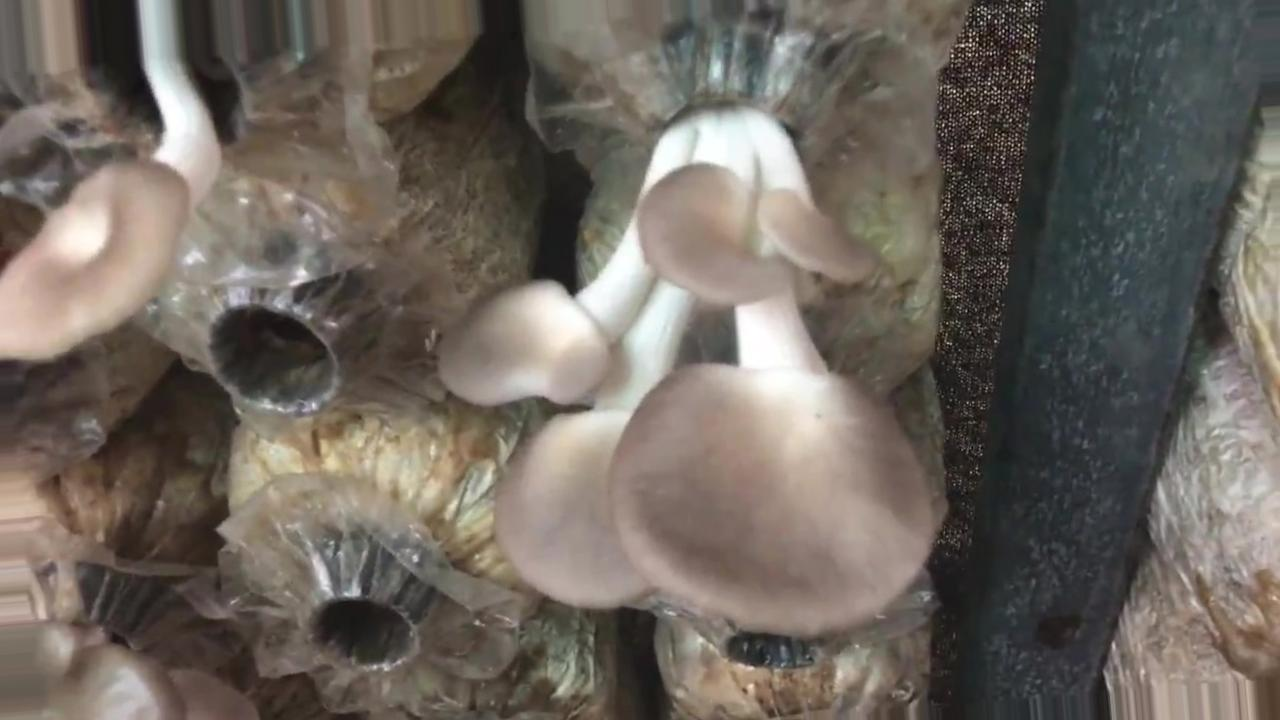nam: (434, 21, 939, 637), (4, 1, 242, 359)
